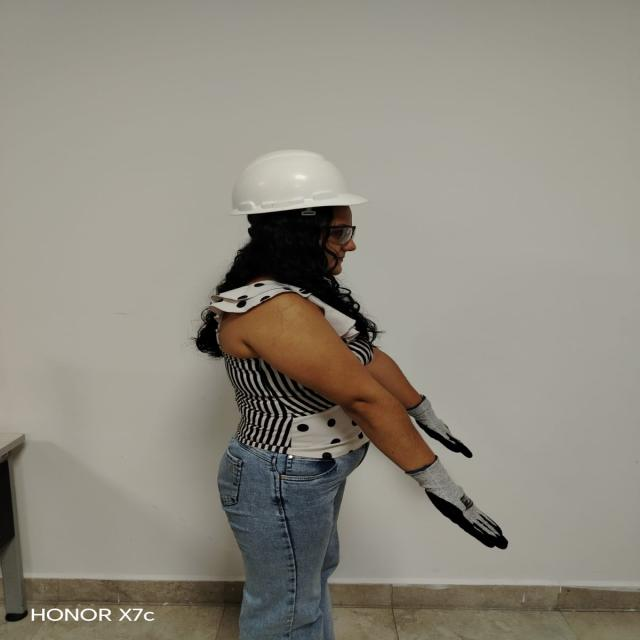protective_glasses: (317, 222, 360, 248)
